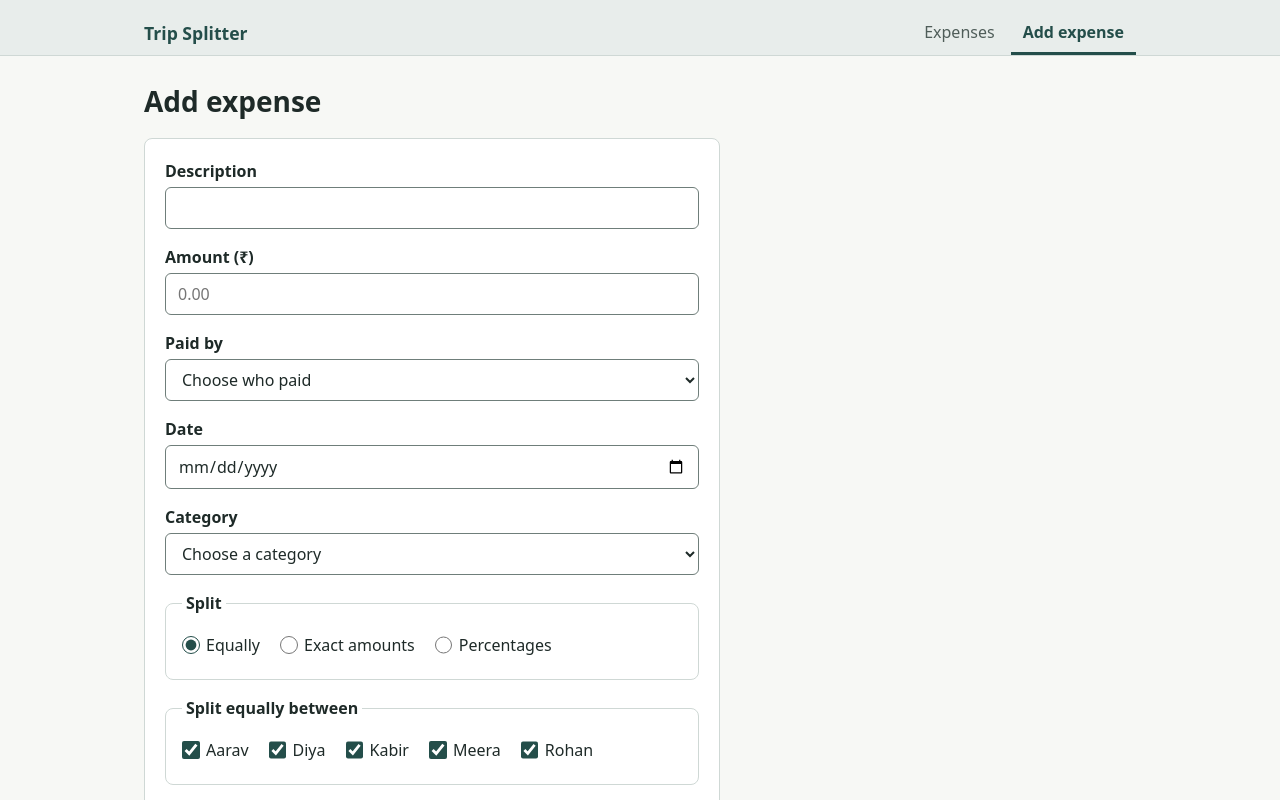
Add expense form › Cancel goes back to Expenses without saving anything
Type "Fish thali lunch" into the field labelled "Description" at (432, 208), box [165, 187, 699, 229]
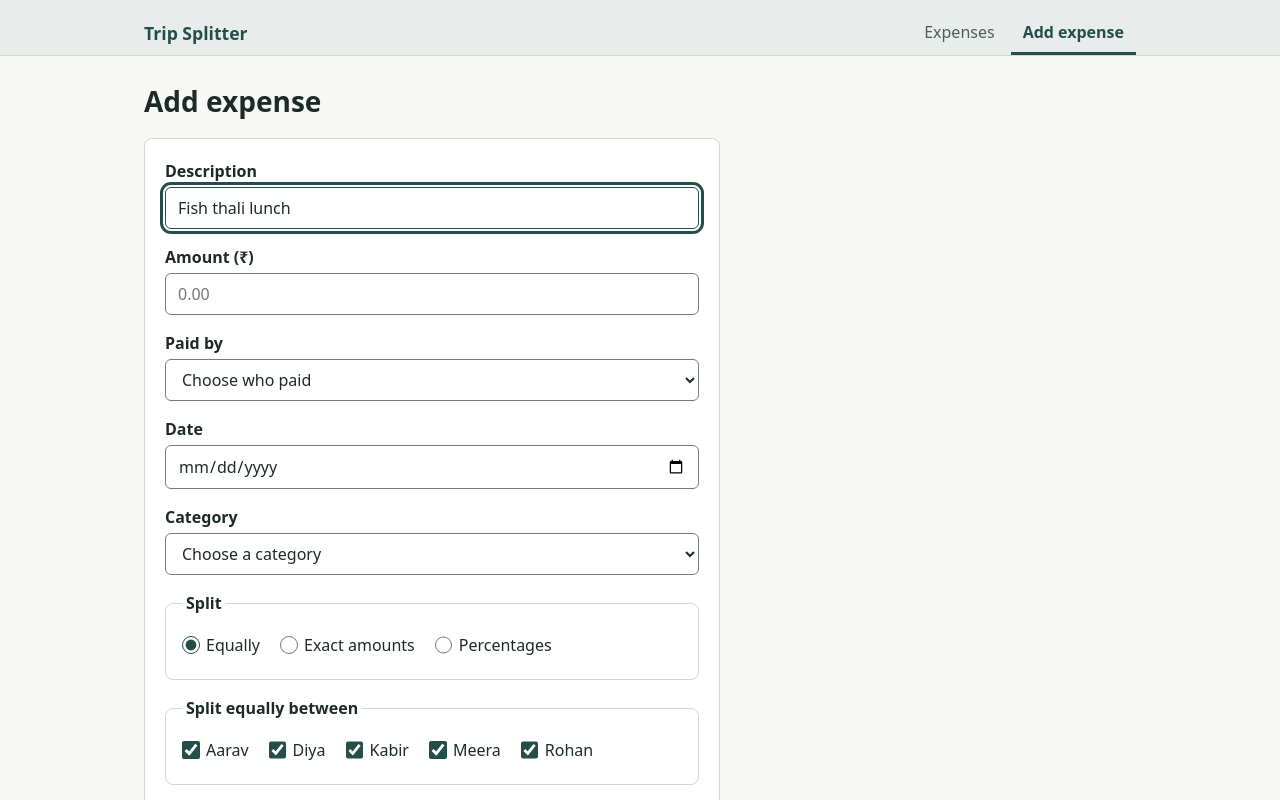
Type "1250.50" into the field labelled "Amount (₹)" at (432, 294), box [165, 273, 699, 315]
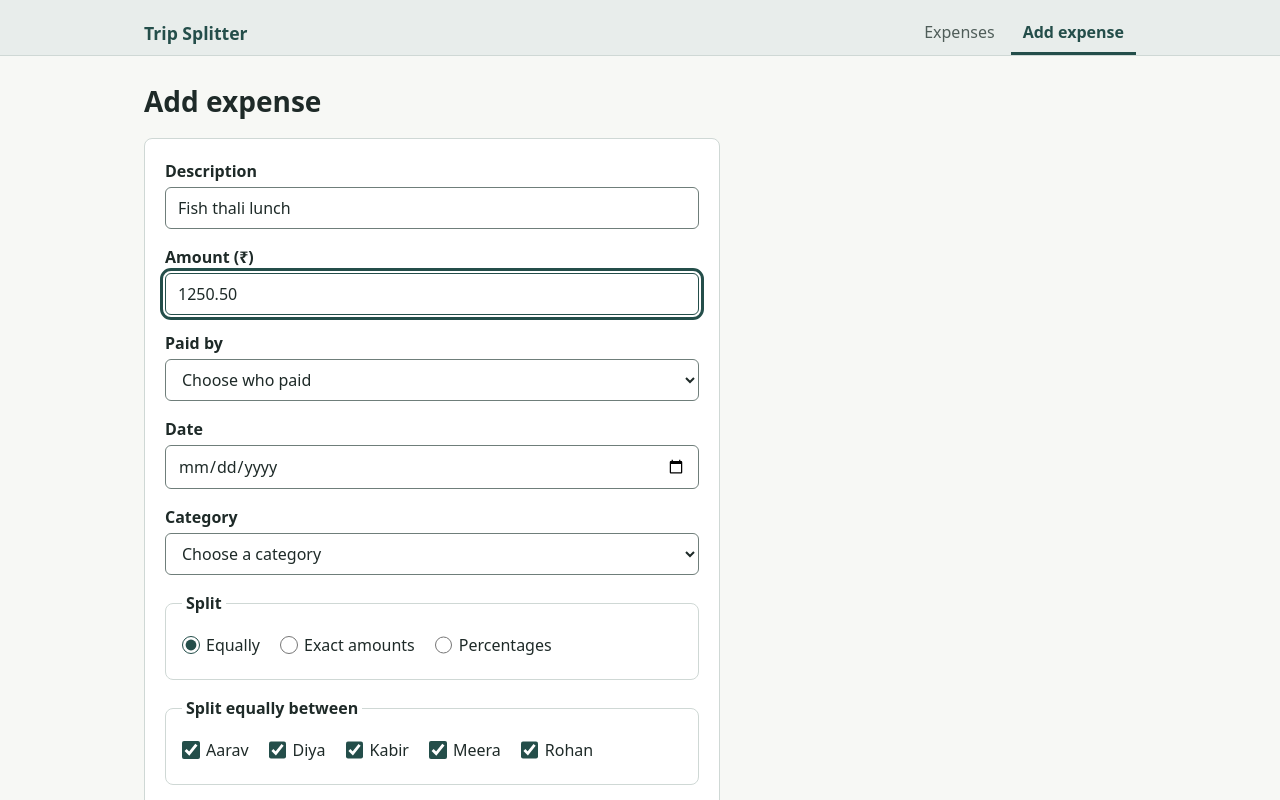
Select "Kabir" in the dropdown labelled "Paid by" at (432, 380), box [165, 359, 699, 401]
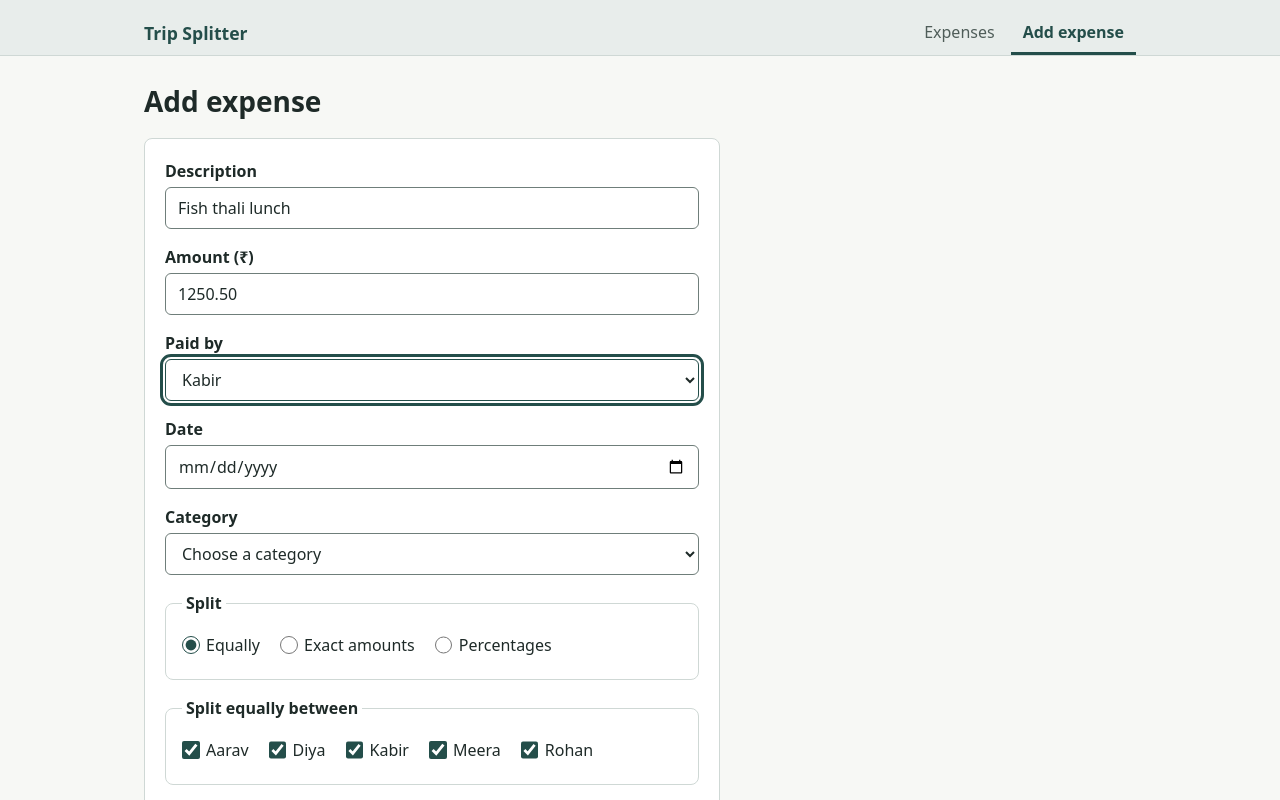
Type "2026-03-16" into the date field labelled "Date" at (432, 467), box [165, 445, 699, 489]
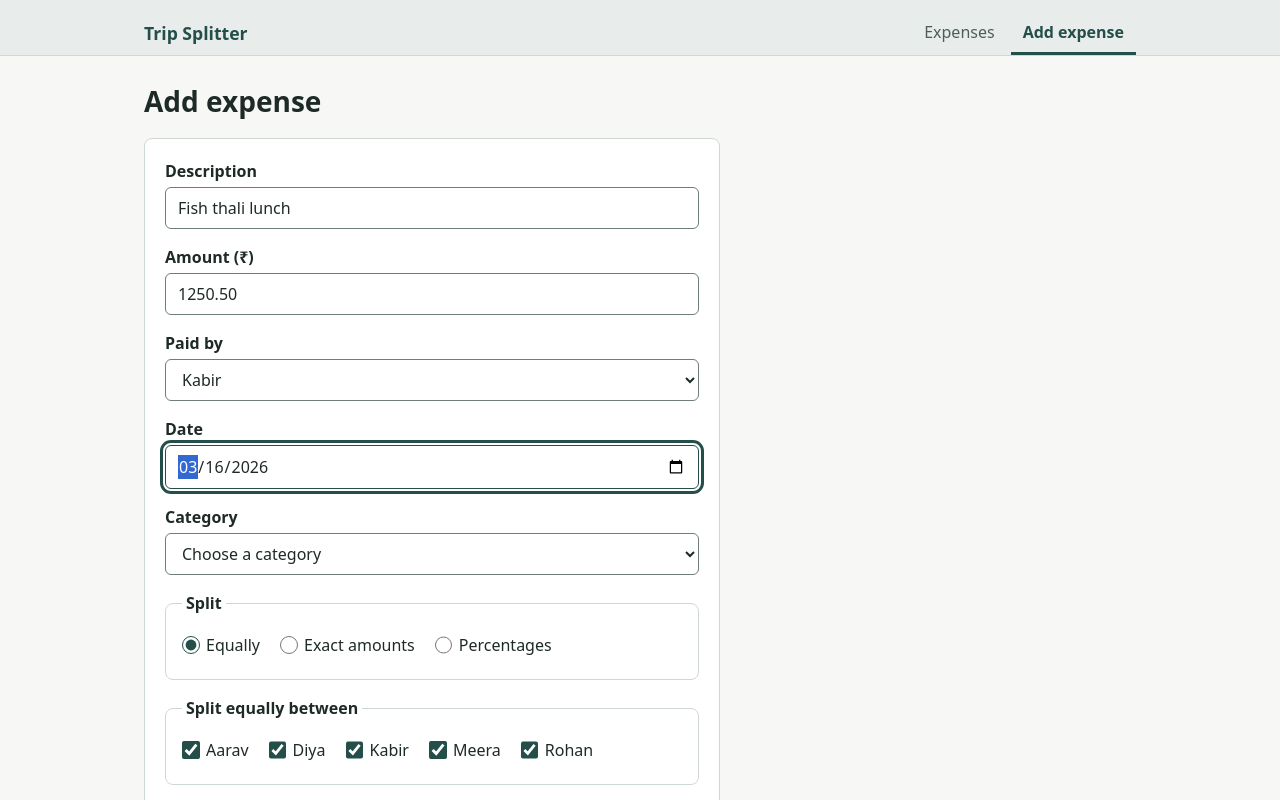
Select "Food" in the dropdown labelled "Category" at (432, 554), box [165, 533, 699, 575]
(page scrolled)
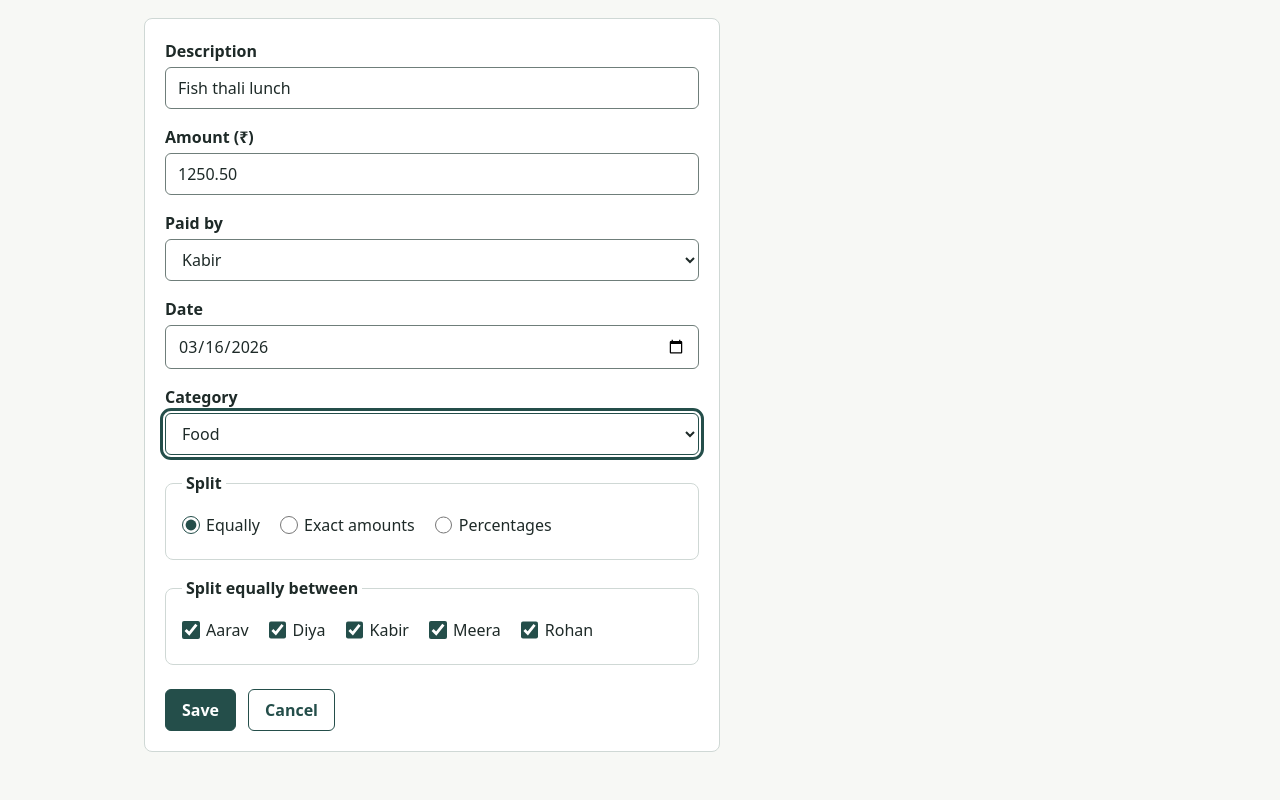
Click the button "Cancel" at (291, 710), box [248, 689, 335, 731]
(page scrolled)
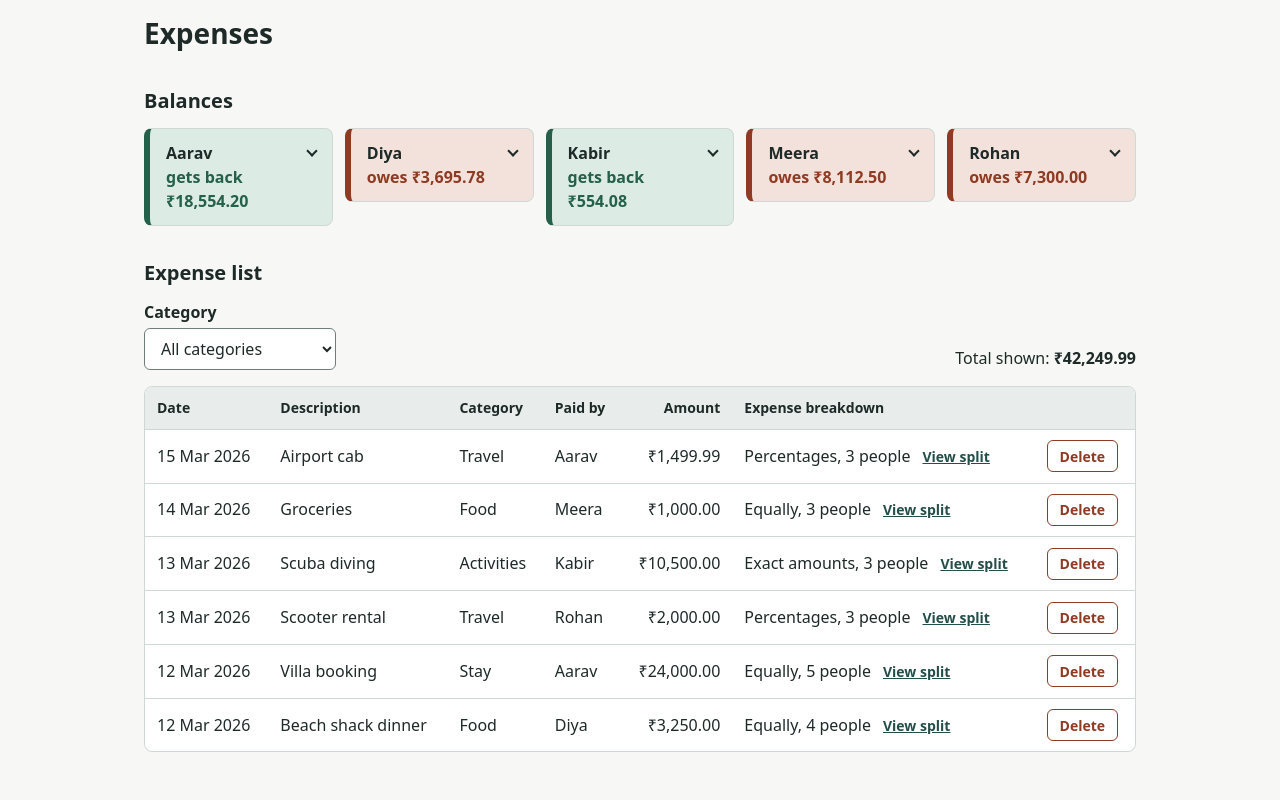
Expected: the text "Fish thali lunch" is not shown
Expected: the heading "Expenses" is shown, [144, 14, 273, 52]
